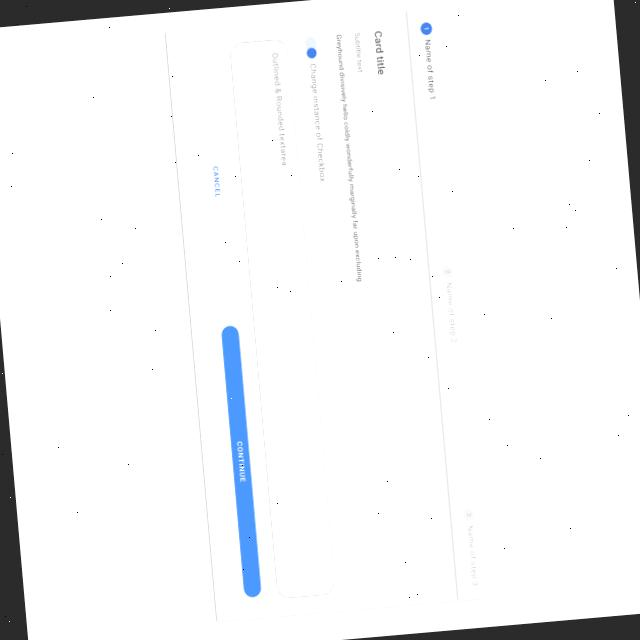QLabel: (332, 29, 362, 276), (372, 28, 386, 77), (234, 438, 247, 486), (352, 30, 362, 72), (210, 164, 220, 198)
VBtn: (192, 42, 236, 321), (218, 323, 262, 598)
VCard: (162, 11, 456, 624)
VStepper: (405, 6, 493, 601)
VSwitch: (300, 34, 330, 186)
VTextarea: (227, 38, 336, 600)
